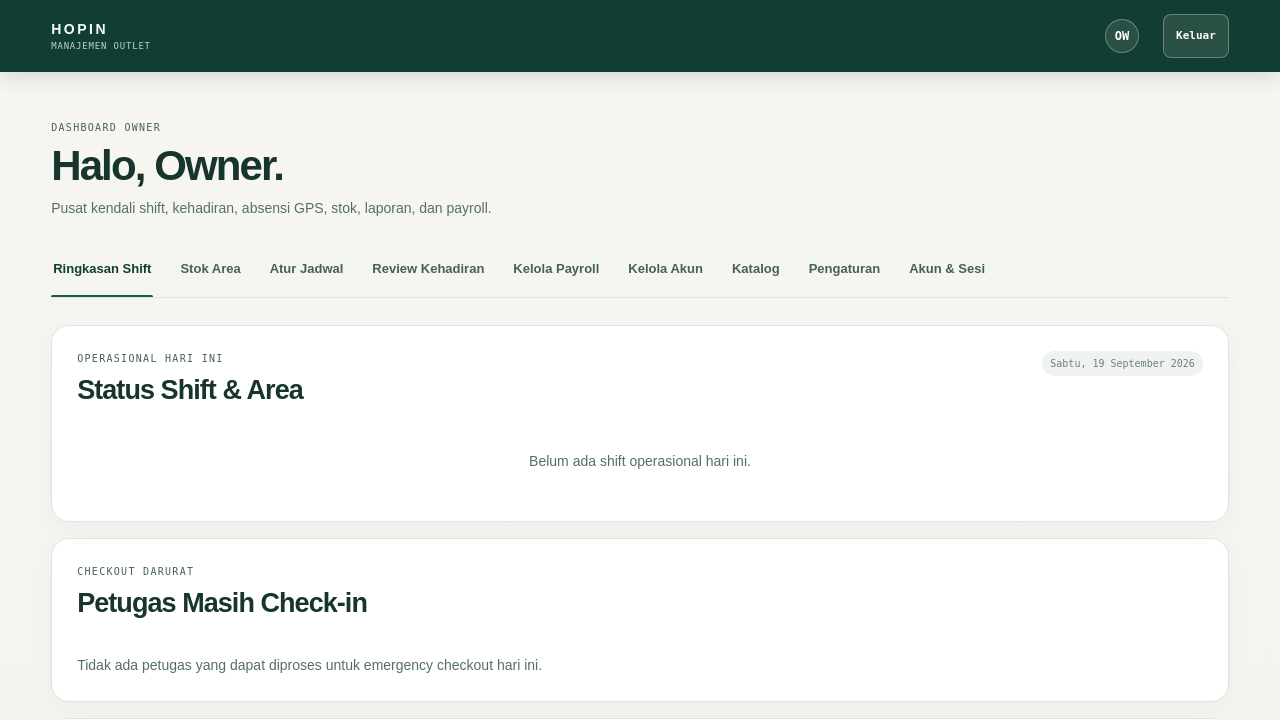
ManagementView payroll period isolation › keeps the roster visible and disables schedule creation when the users list fails
Click the button "Atur Jadwal".
click(307, 275)  # box [268,253,345,297]
(page scrolled)
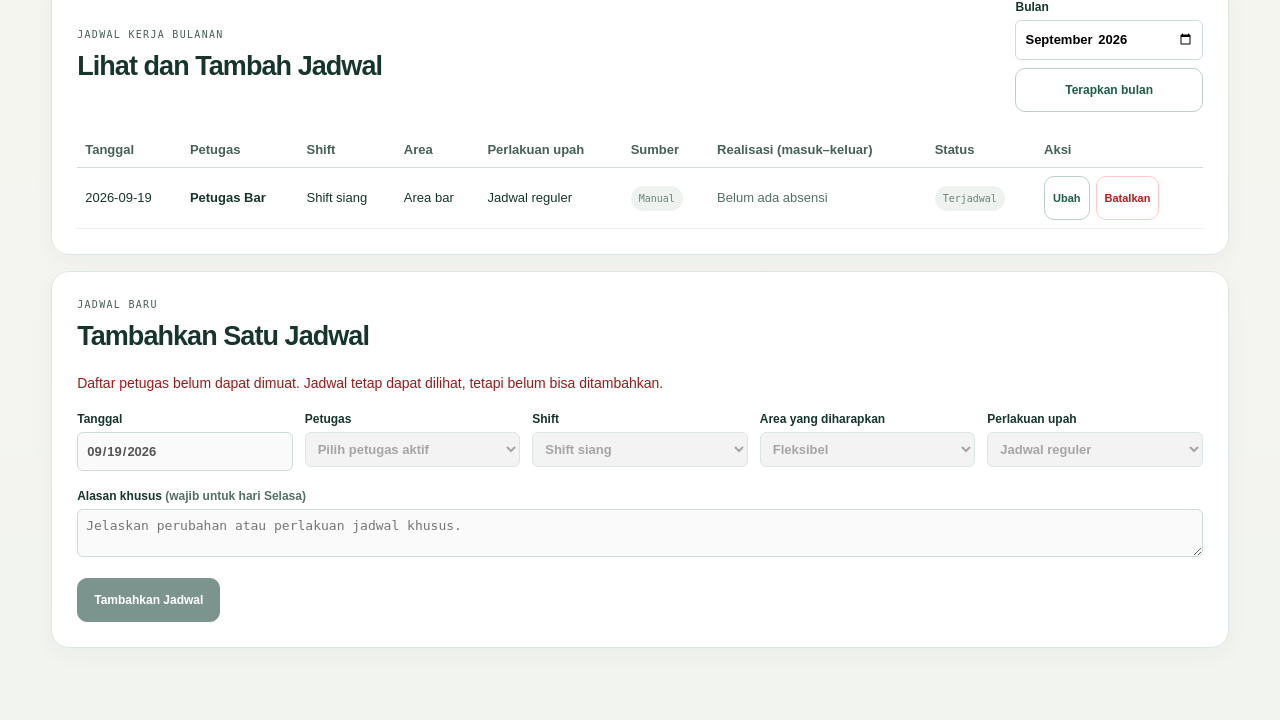
Expected: the text "Petugas Bar" is shown, [182,168,298,229]
Expected: the message shows "Daftar petugas belum dapat dimuat", [77,375,663,391]
Expected: the button "Tambahkan Jadwal" is disabled, [77,578,220,622]
